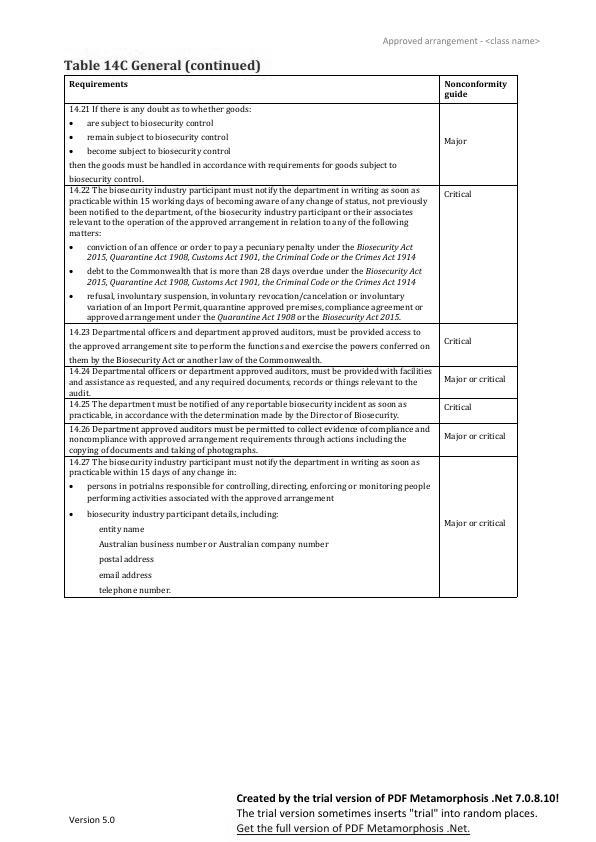table: (61, 72, 523, 606)
text: (233, 786, 563, 838), (59, 54, 264, 74)
